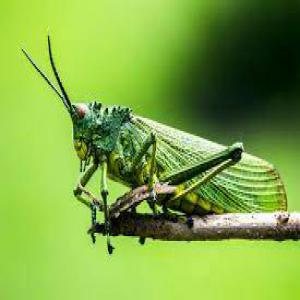locust: (48, 67, 292, 257)
